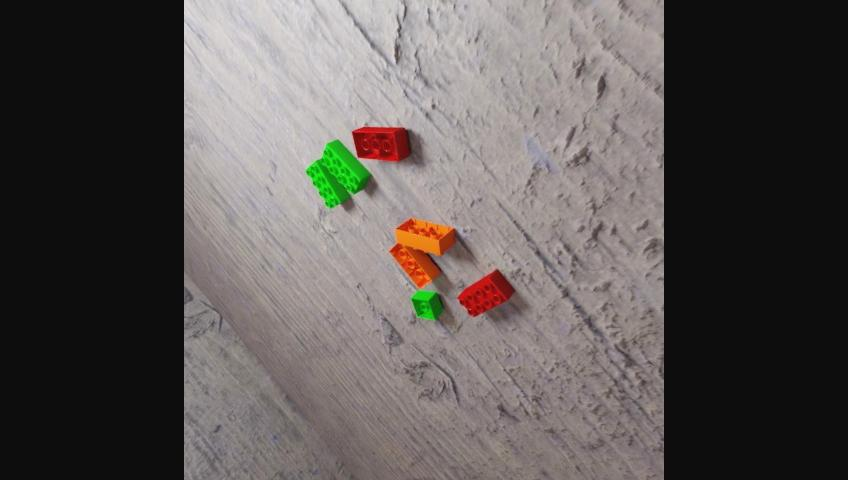2x2_green: (410, 290, 442, 320)
4x2_green: (320, 140, 370, 194), (305, 159, 350, 209)
4x2_orange: (388, 243, 440, 289), (396, 217, 457, 254)
4x2_red: (456, 269, 514, 317), (351, 125, 409, 159)
